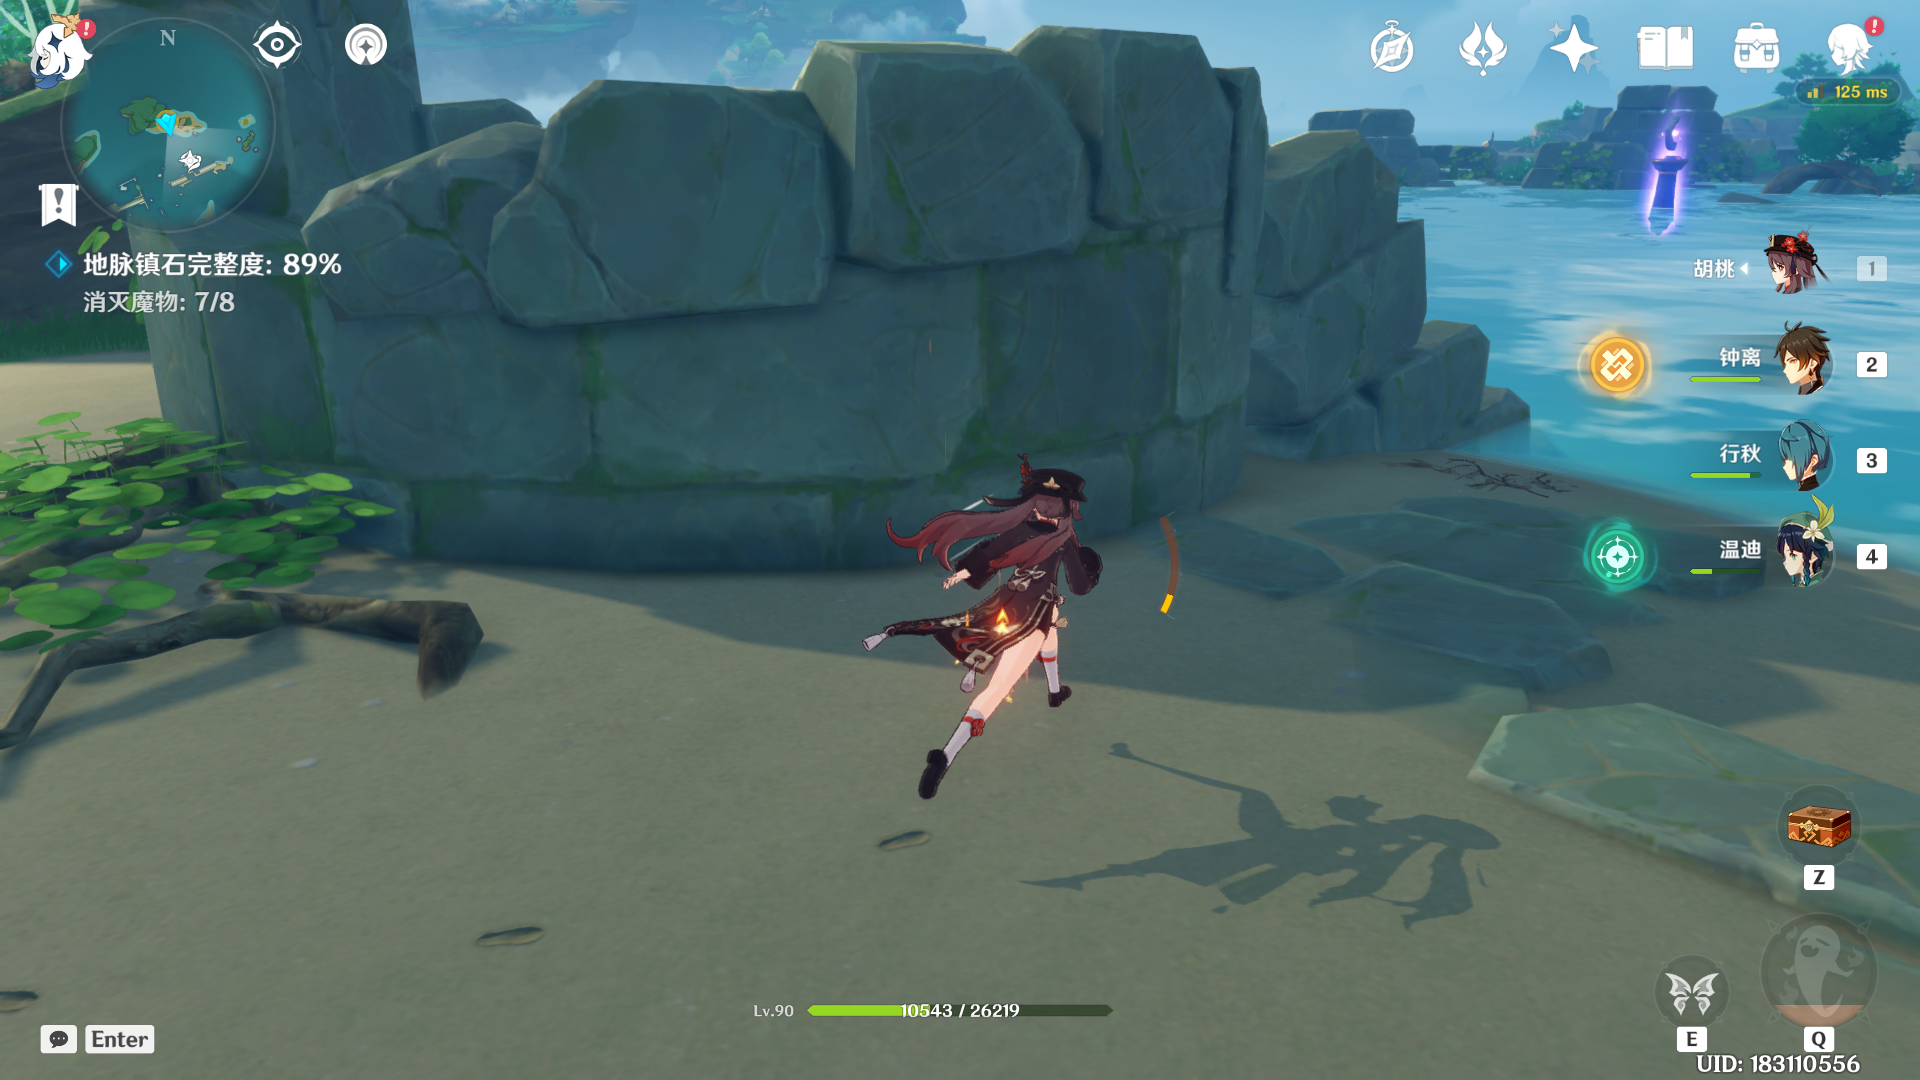character: (848, 436, 1134, 800)
